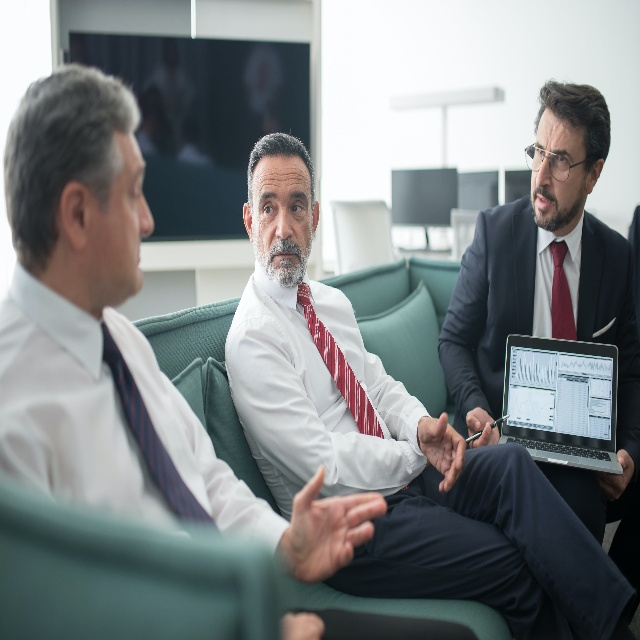Gafas: (524, 137, 587, 181)
Sin_guantes: (289, 465, 388, 583), (417, 412, 466, 495), (594, 446, 635, 501), (465, 408, 502, 448)
